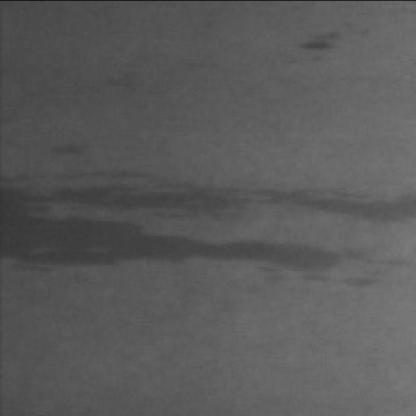inclusion: (8, 174, 412, 276), (241, 172, 416, 224)
